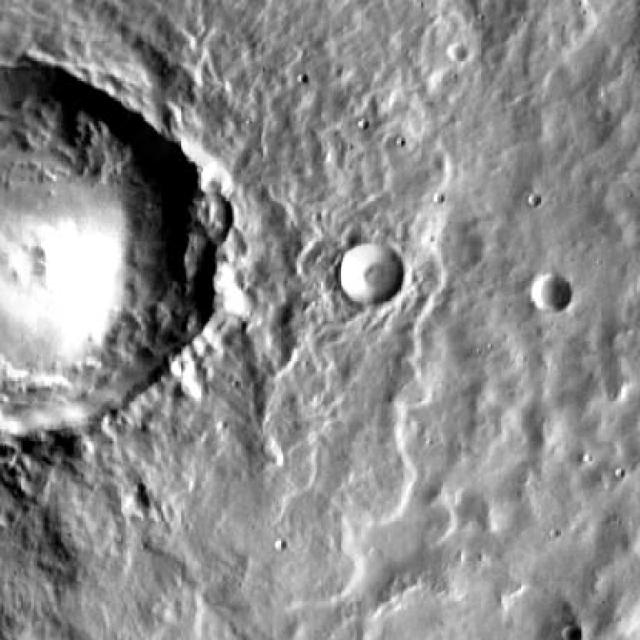crater: (0, 66, 205, 432), (336, 242, 404, 308), (533, 276, 573, 315), (122, 490, 148, 516), (448, 44, 468, 64), (560, 627, 582, 640)
